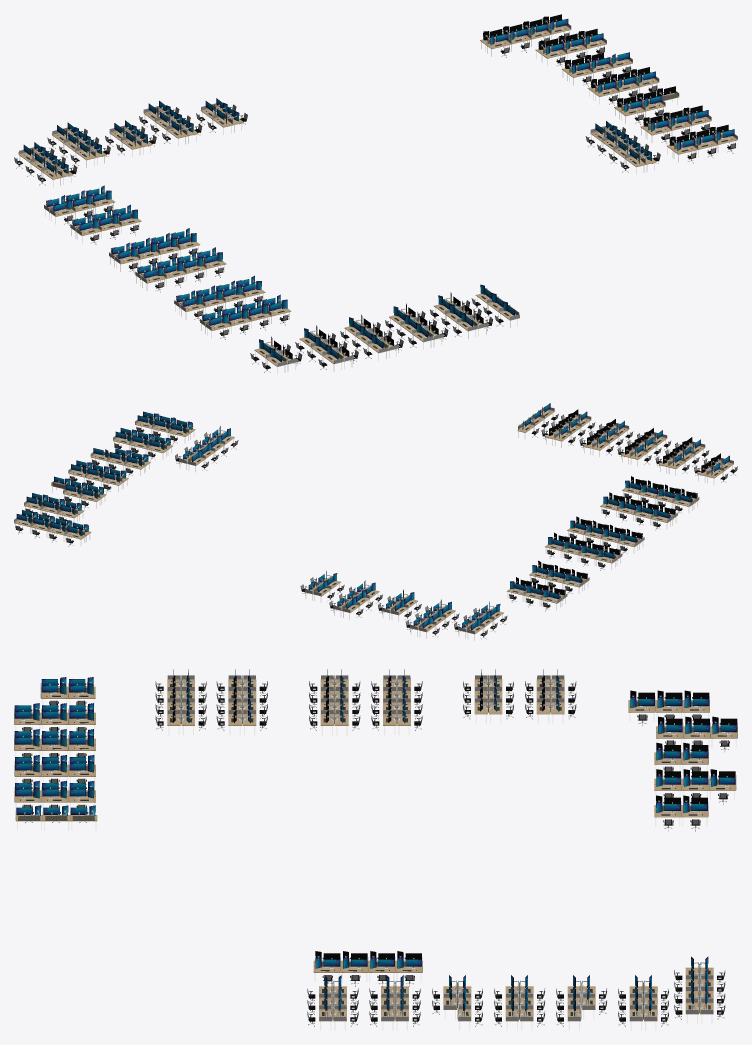
Rendered from seats-conbined.glb.
The picture shows the model from 3 angles, top to bottom: view 1: azimuth 30°, elevation 25°; view 2: azimuth 150°, elevation 25°; view 3: azimuth 270°, elevation 25°; orthographic projection. The views are drawn at different scales.
Parts seen in each view (by area): view 1: seat.001; view 2: seat.001; view 3: seat.001.
Part boxes in pixels (box(x1,y1,x2,y2)): seat.001: box(14, 14, 737, 374); seat.001: box(14, 403, 737, 640); seat.001: box(14, 669, 737, 1030).
Bounding box in the file's own units: 12.89 × 0.3925 × 11.55.
Materials: 12 (4 with a texture image).
